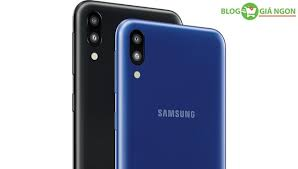samsung: (113, 18, 229, 169)
